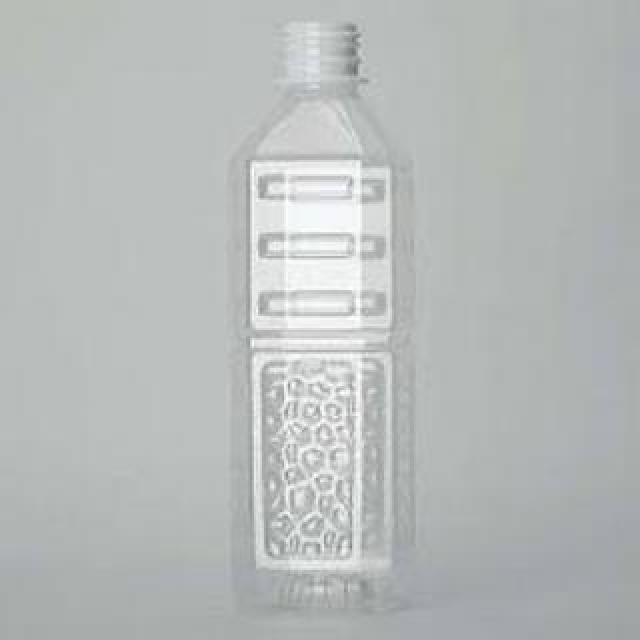Pet_Bottle: (212, 3, 438, 629)
